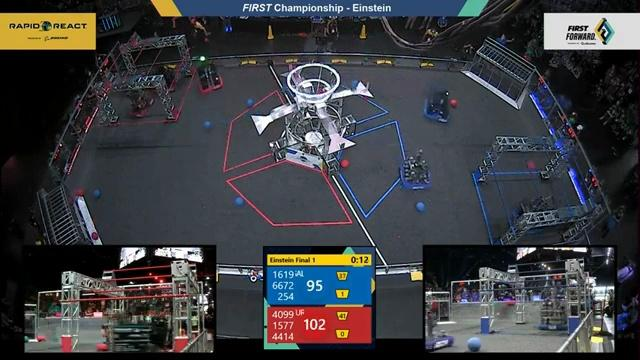robot: (511, 189, 557, 234), (396, 148, 434, 195), (120, 74, 157, 121), (420, 85, 461, 123), (193, 55, 231, 95), (427, 298, 455, 352), (147, 57, 185, 93), (539, 289, 567, 332)
